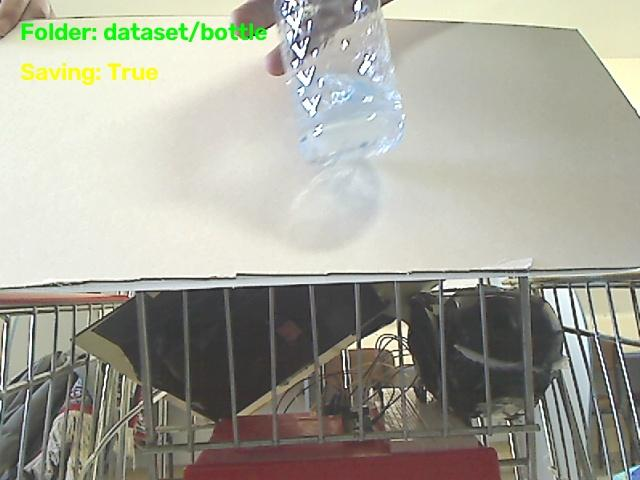Bottle: (275, 0, 404, 163)
